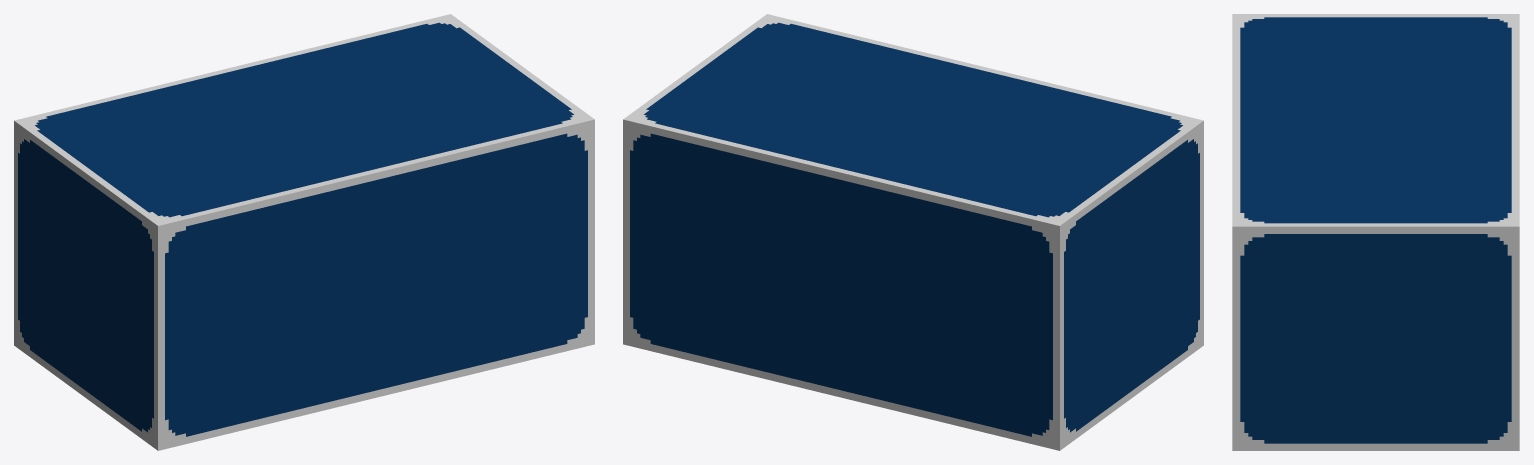
Rendered from house_simple_blue_rectangular.glb.
The picture shows the model from 3 angles, left to right: view 1: azimuth 30°, elevation 25°; view 2: azimuth 150°, elevation 25°; view 3: azimuth 270°, elevation 25°; orthographic projection.
Visible parts, largest first — view 1: house_simple_blue_rectangular.001; view 2: house_simple_blue_rectangular.001; view 3: house_simple_blue_rectangular.001.
Part boxes in pixels (x1,y1,x2,y2): house_simple_blue_rectangular.001: (14,14,594,450); house_simple_blue_rectangular.001: (623,14,1203,450); house_simple_blue_rectangular.001: (1232,14,1519,450).
Size of the model in its own units: 12.6 by 6.2 by 7.2.
1 material, 1 textured.
